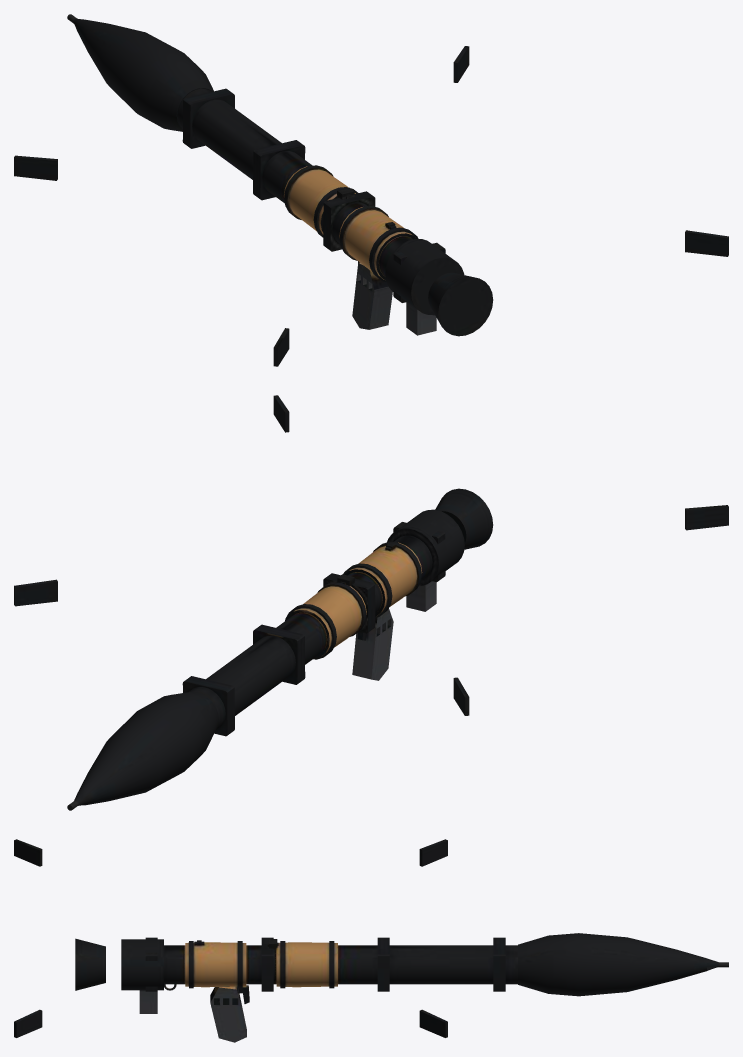
Rendered from W_rocket_launcher.glb.
3 renders of one model, top to bottom at view 1: azimuth 30°, elevation 25°; view 2: azimuth 150°, elevation 25°; view 3: azimuth 270°, elevation 25°, orthographic. The views are drawn at different scales.
Parts seen in each view (by area): view 1: W_rocket_launcher; view 2: W_rocket_launcher; view 3: W_rocket_launcher.
Part boxes in pixels (<box>): W_rocket_launcher: <box>14,14,728,366</box>; W_rocket_launcher: <box>14,395,728,810</box>; W_rocket_launcher: <box>14,839,728,1042</box>.
Bounding box in the file's own units: 0.7113 × 0.197 × 1.17.
Materials: 1 (1 with a texture image).
